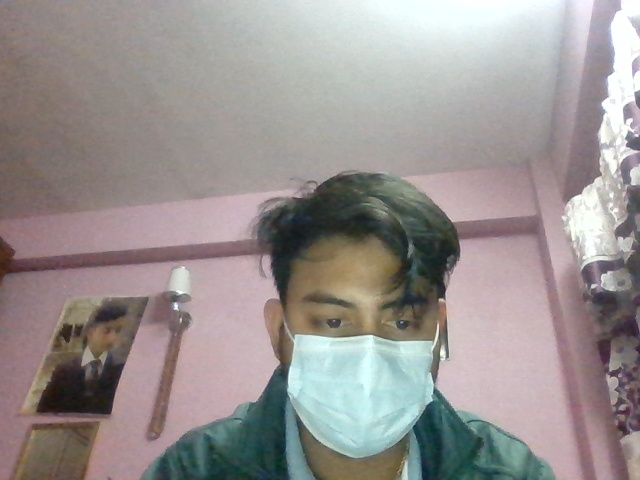mask: (277, 326, 456, 460)
